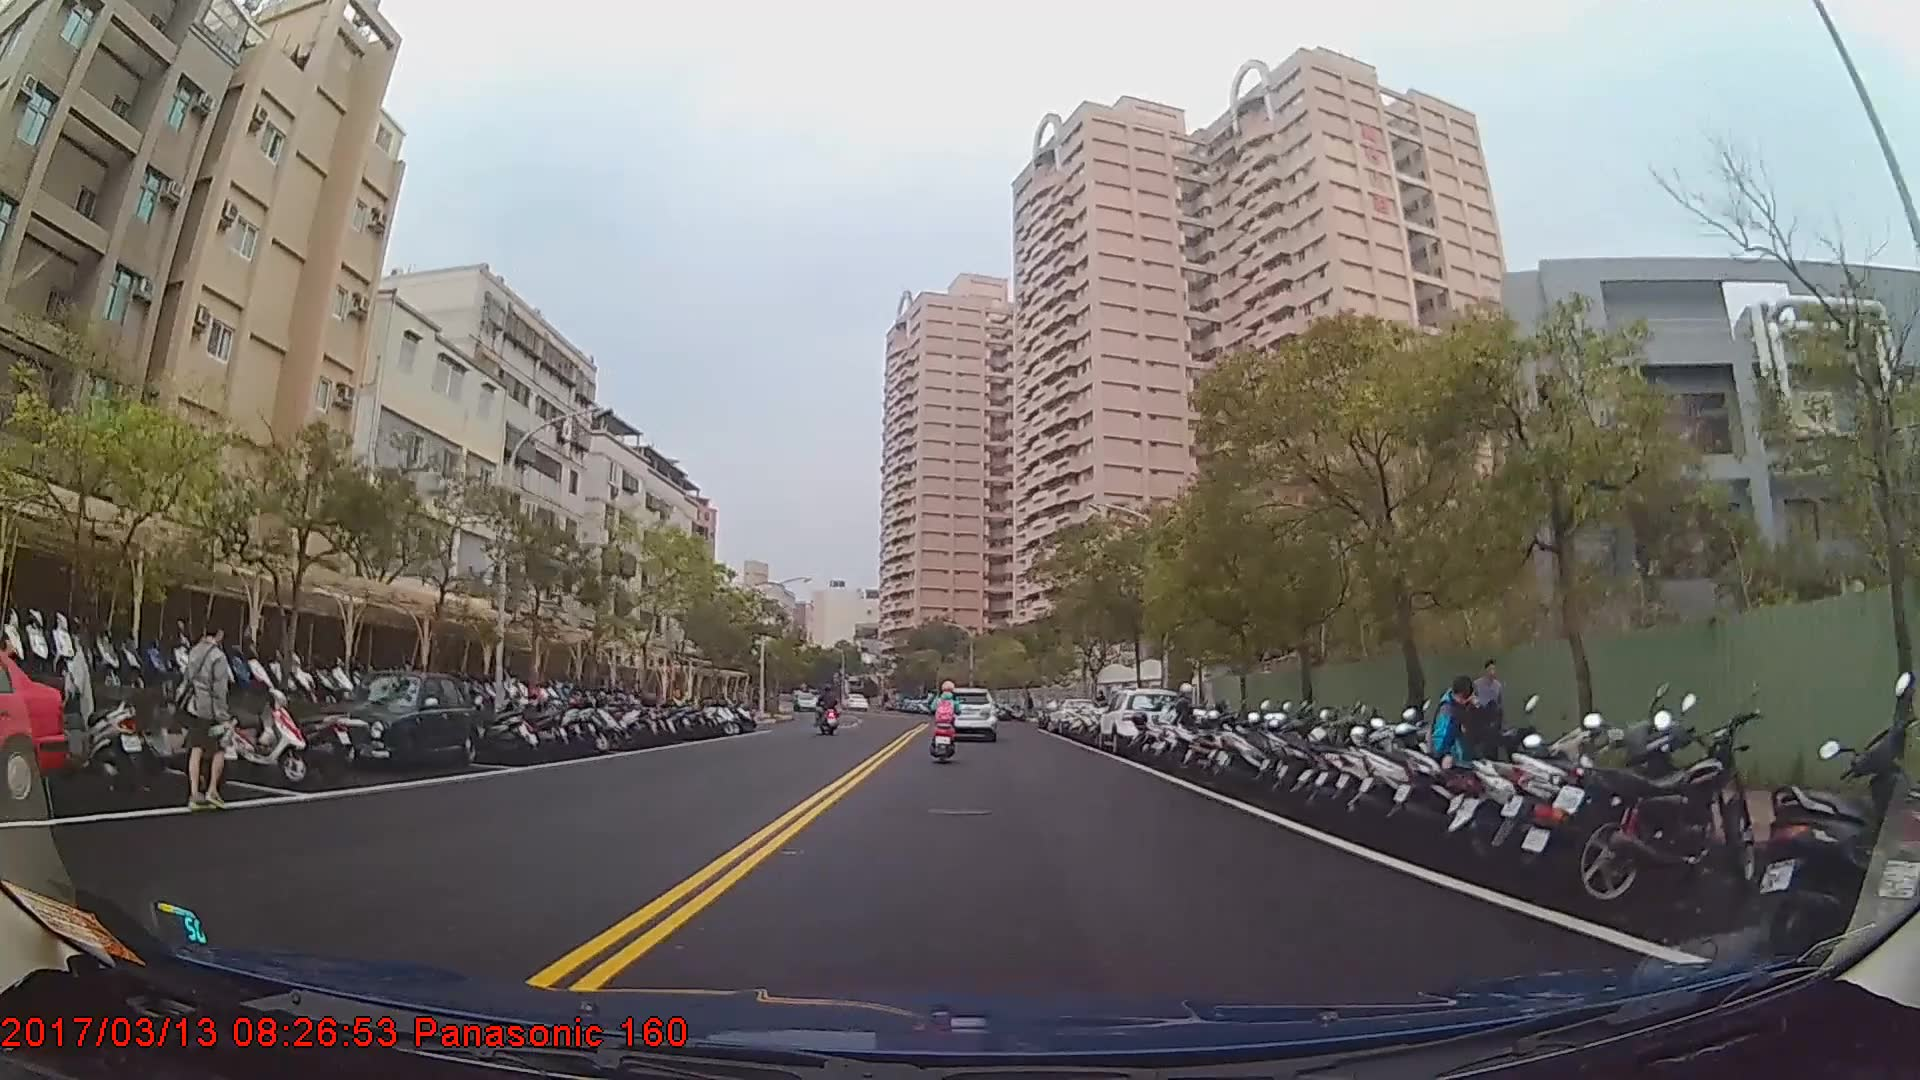pedestrian: (174, 617, 245, 811), (1435, 672, 1505, 833), (1467, 660, 1507, 767)
rider: (929, 678, 964, 764), (816, 683, 842, 738)
vehicle: (318, 667, 479, 774), (0, 644, 66, 815), (1096, 686, 1187, 754), (940, 681, 998, 734)
